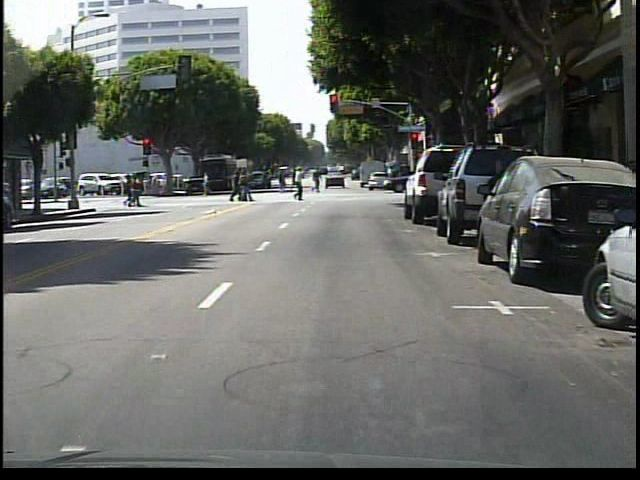person: (286, 165, 308, 204), (195, 168, 214, 198), (307, 167, 326, 196)
